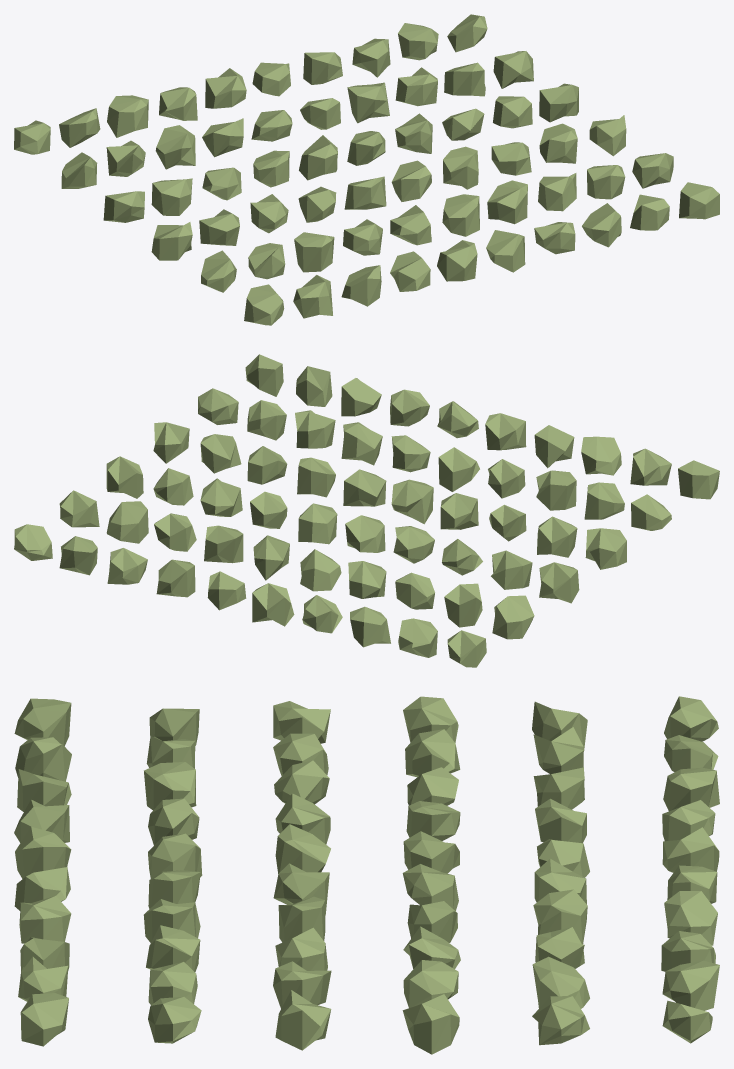
3 views of the same model, one above another, from view 1: azimuth 30°, elevation 25°; view 2: azimuth 150°, elevation 25°; view 3: azimuth 270°, elevation 25° (orthographic). The views are drawn at different scales.
Size of the model in its own units: 7.62 by 0.5 by 7.09.
